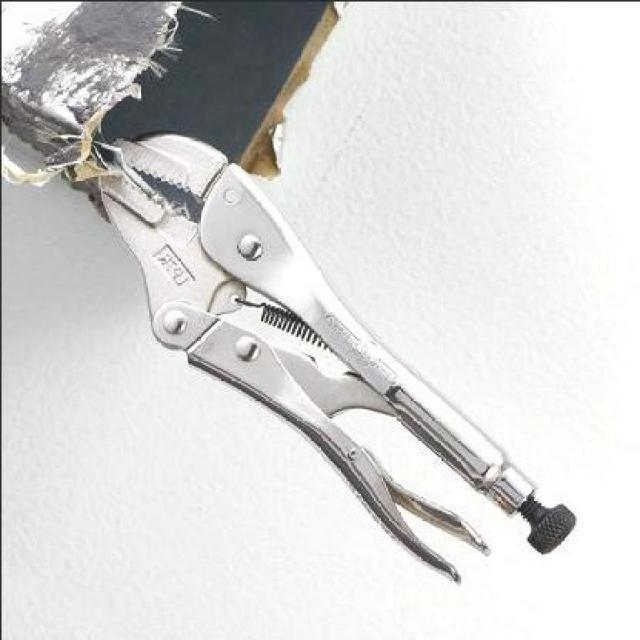pliers: (90, 132, 572, 596)
